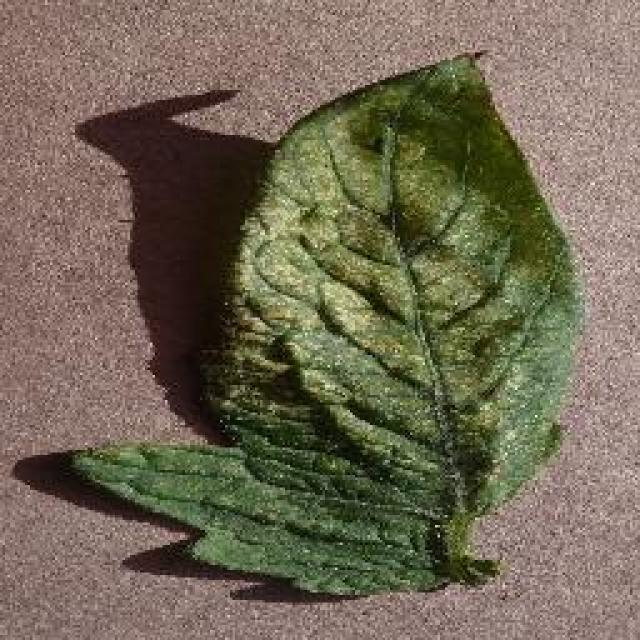Tomato___Spider_mites Two-spotted_spider_mite: (72, 55, 582, 592)
